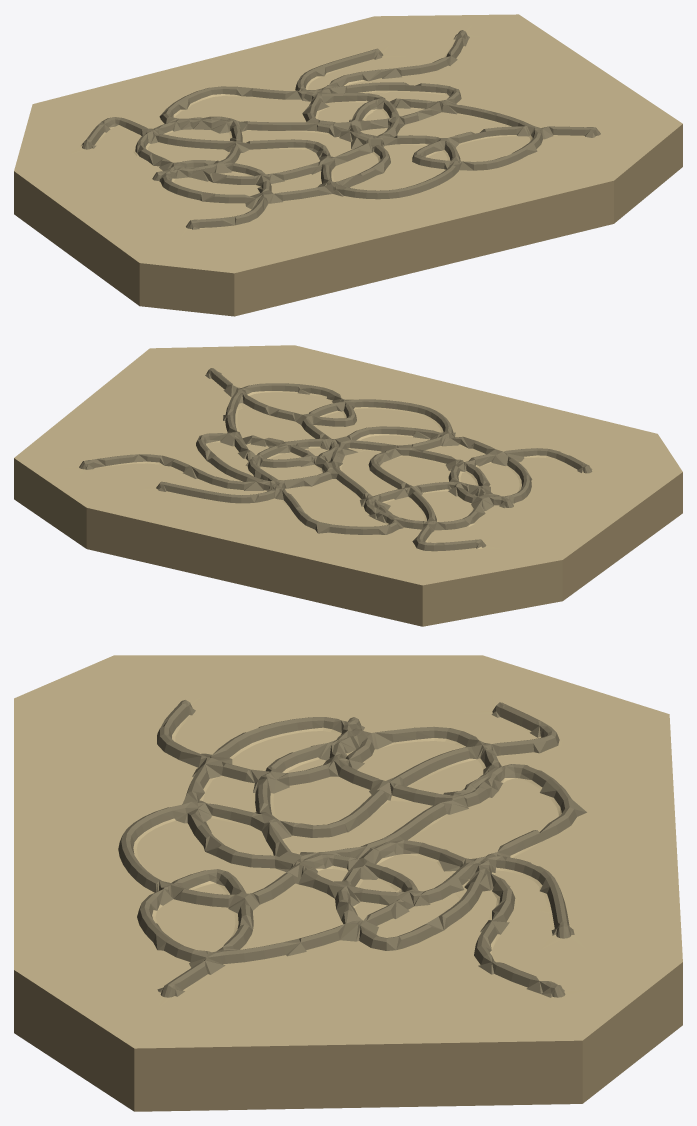
Rendered from lumbricaria-thread-like-coprolite.glb.
3 renders of one model, top to bottom at view 1: azimuth 30°, elevation 25°; view 2: azimuth 150°, elevation 25°; view 3: azimuth 270°, elevation 25°, orthographic. The views are drawn at different scales.
Parts seen in each view (by area): view 1: integrated-full-volume-trace-relief; view 2: integrated-full-volume-trace-relief; view 3: integrated-full-volume-trace-relief.
Boxes of the visible parts, x1,y1,x2,y2 form: integrated-full-volume-trace-relief: [14, 14, 682, 316]; integrated-full-volume-trace-relief: [14, 345, 682, 626]; integrated-full-volume-trace-relief: [14, 655, 682, 1111].
Size of the model in its own units: 0.16 by 0.0138 by 0.115.
